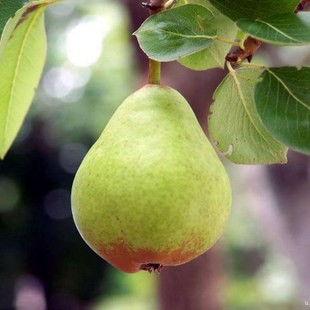pear: (70, 85, 231, 274)
